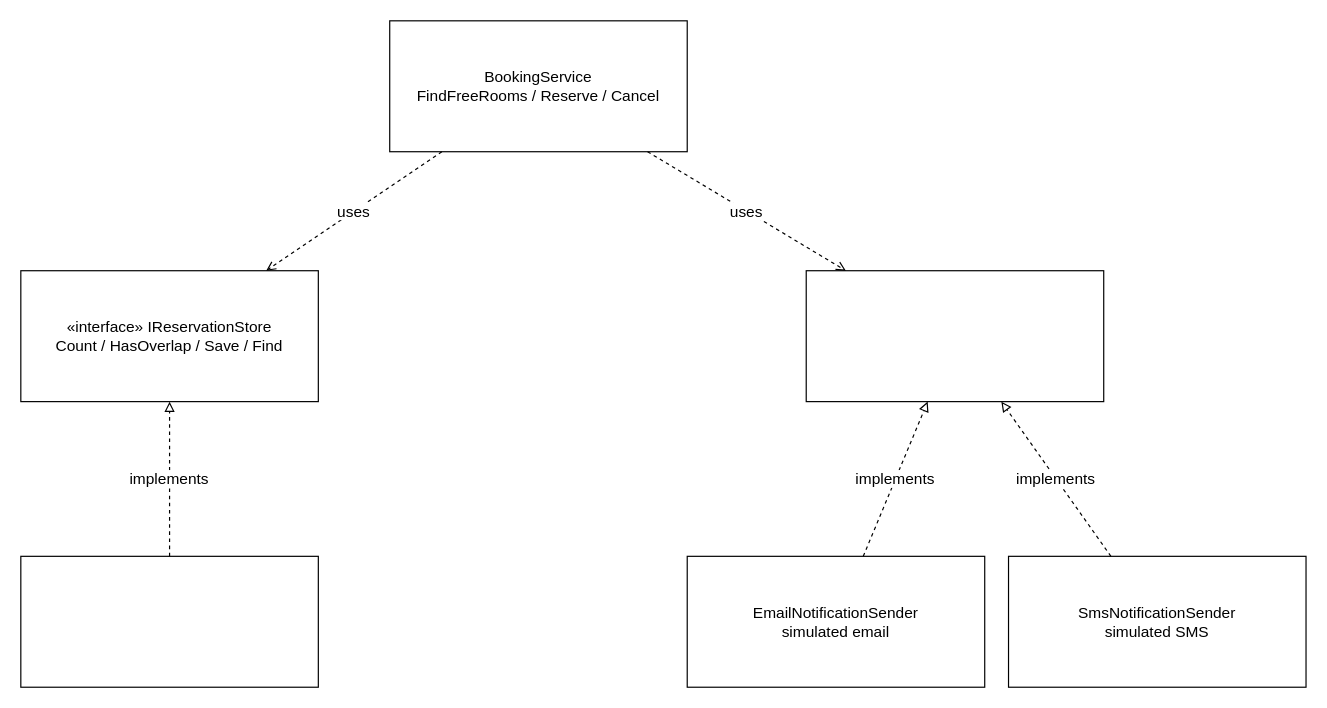
Image size: 1327x708. Some labels were removed from this diagram. Here are the shapes that lost their labels. From the top down, the box of each, then its label:
(805, 270, 1104, 402): «interface» INotificationSender SendConfirmation
(20, 555, 318, 687): InMemoryReservationStore list storage
